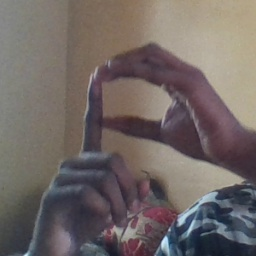P: (60, 41, 216, 199)
